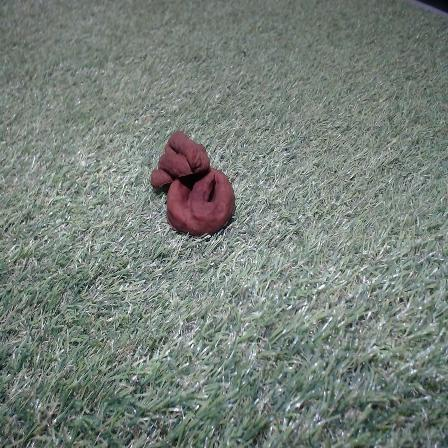dog-poop: (145, 128, 242, 241)
